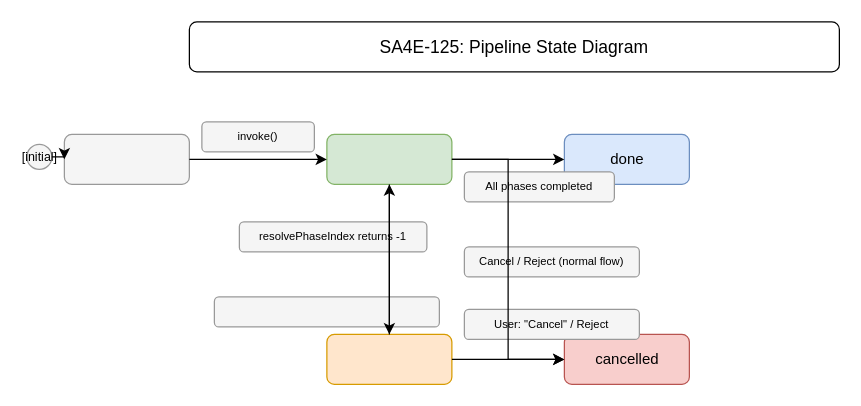
The diagram is 861 pixels wide and 406 high, and some of its shapes have lost their labels. Here are the shapes that lost their labels. From the top down, the box of each, then its label:
(63, 133, 189, 184): idle
(326, 133, 452, 184): running
(213, 296, 439, 327): User: "Skip" / Reconfigure
(326, 333, 452, 384): paused
